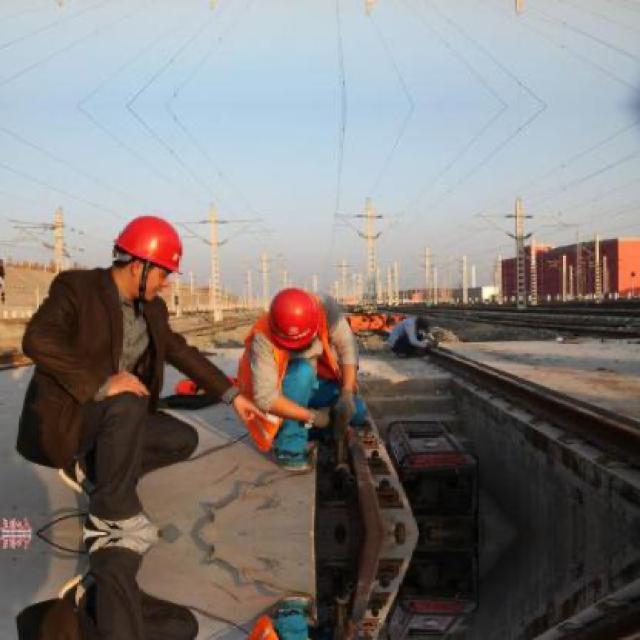con casco: (231, 253, 370, 413), (68, 199, 191, 314)
